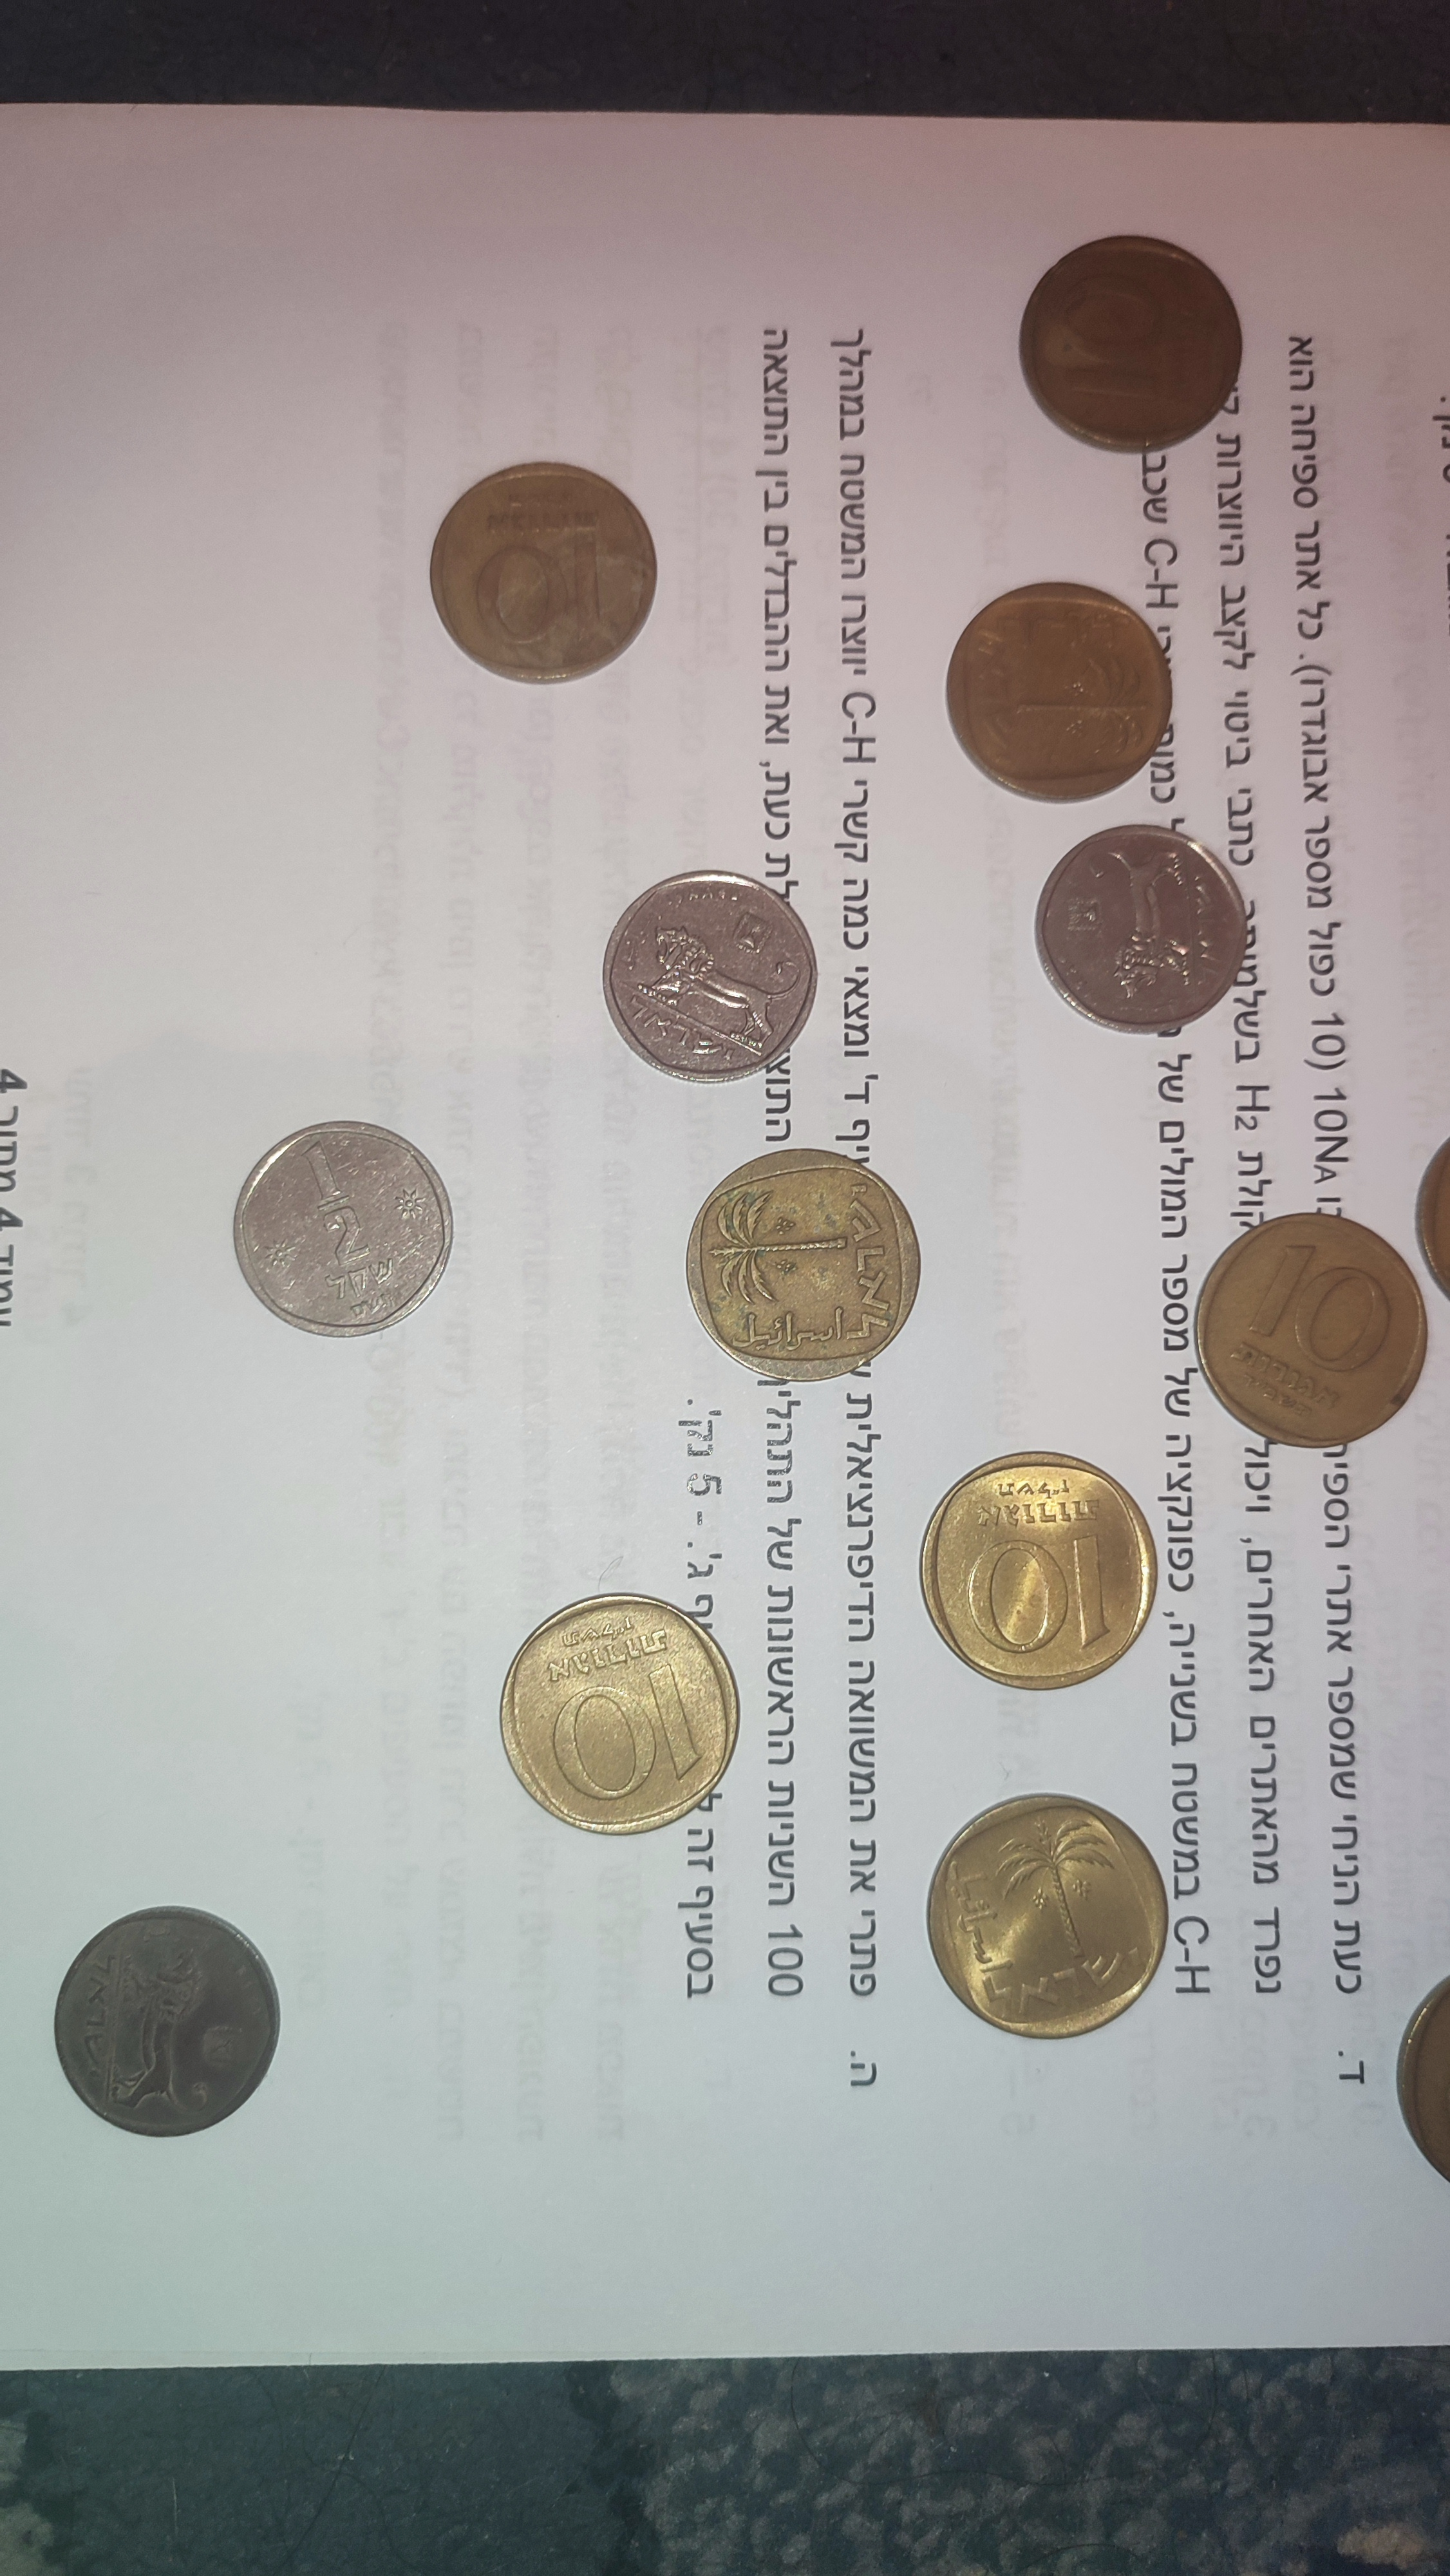1/2 old sheqel: (51, 1904, 285, 2141), (232, 1120, 456, 1343), (599, 869, 820, 1086), (1033, 821, 1250, 1035)
10 old agora brown: (923, 1787, 1174, 2043), (493, 1587, 744, 1842), (912, 1445, 1162, 1695), (1188, 1207, 1432, 1451), (681, 1143, 925, 1385), (943, 577, 1178, 807), (426, 458, 661, 686), (1015, 232, 1247, 458)
